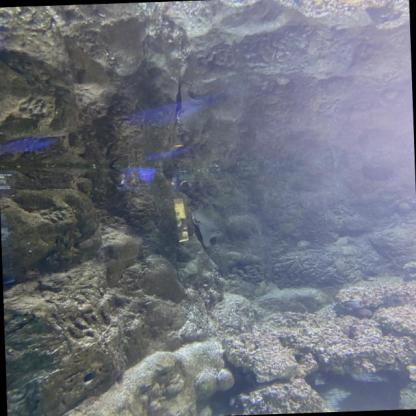stingray: (191, 202, 222, 249)
